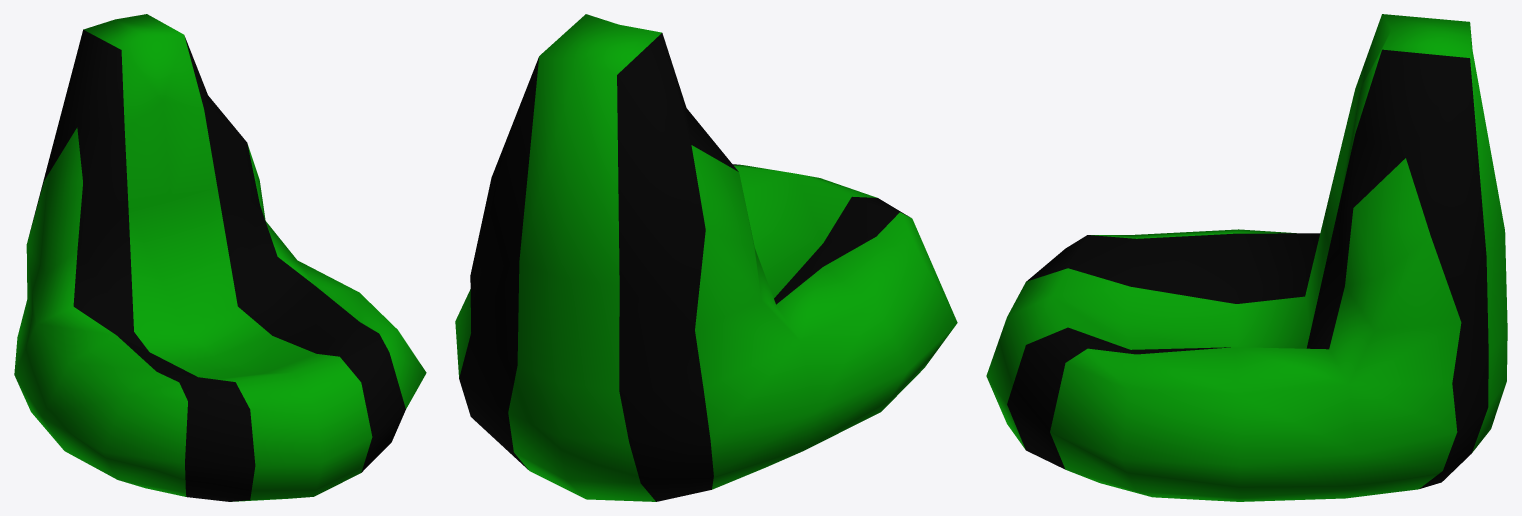
File: Prop_BagChair_02.fbx
The picture shows the model from 3 angles, left to right: view 1: azimuth 30°, elevation 25°; view 2: azimuth 150°, elevation 25°; view 3: azimuth 270°, elevation 25°; orthographic projection. The views are drawn at different scales.
Parts seen in each view (by area): view 1: Prop_BagChair_02; view 2: Prop_BagChair_02; view 3: Prop_BagChair_02.
Part boxes in pixels (x1,y1,x2,y2): Prop_BagChair_02: (14,14,426,501); Prop_BagChair_02: (455,14,957,501); Prop_BagChair_02: (986,14,1507,501).
Bounding box in the file's own units: 107 × 110 × 121.
